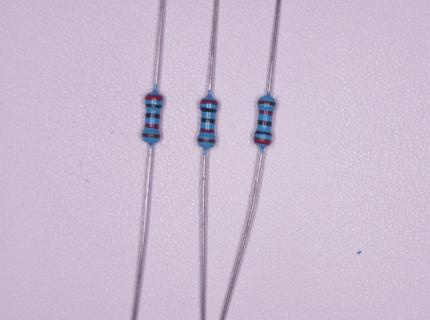Black band: (200, 107, 217, 112), (201, 118, 215, 123), (255, 131, 272, 135), (258, 121, 271, 126), (147, 104, 162, 108), (145, 114, 160, 118)
Brown band: (258, 101, 276, 106), (143, 133, 160, 138), (198, 139, 215, 143)
Red band: (254, 137, 271, 145), (145, 123, 160, 130), (201, 99, 218, 104), (147, 95, 163, 100), (260, 110, 274, 115), (200, 129, 215, 133)
